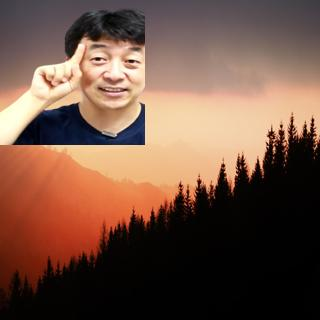IRRITATED: (27, 42, 87, 106)
